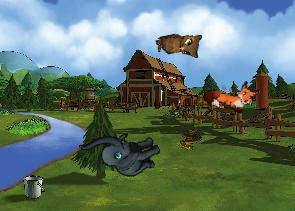elephant: (78, 111, 166, 193)
fox: (201, 69, 261, 119)
owl: (154, 29, 205, 65)
